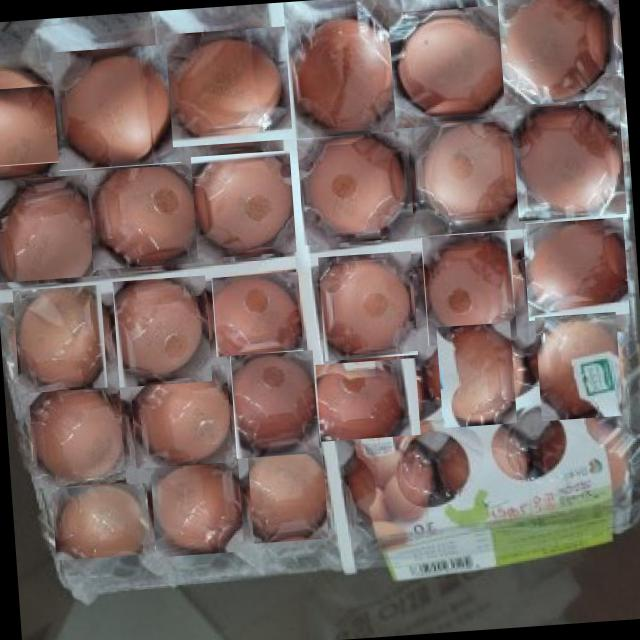eggs: (51, 42, 180, 171), (388, 2, 516, 130), (166, 24, 291, 149), (508, 97, 630, 219), (406, 114, 526, 237), (289, 10, 407, 130), (298, 128, 416, 246), (495, 0, 625, 106), (86, 162, 204, 270), (188, 150, 296, 258), (108, 277, 215, 384), (520, 217, 630, 321), (0, 171, 100, 284), (416, 235, 522, 341), (314, 253, 420, 358), (128, 364, 234, 468), (24, 382, 128, 487), (9, 288, 111, 390), (528, 316, 628, 416), (230, 350, 320, 460), (148, 458, 246, 556), (314, 358, 420, 442), (429, 328, 523, 422), (50, 482, 152, 562), (246, 446, 328, 544), (211, 271, 303, 357), (0, 75, 74, 177)
